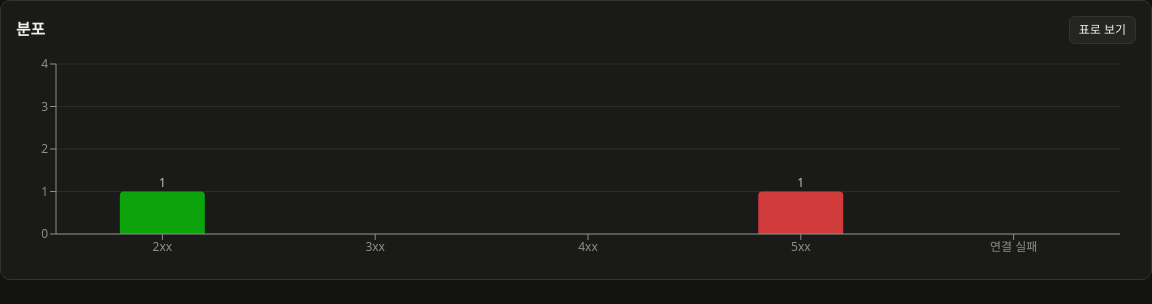
Test: StatusDistribution › 표로 보기를 누르면 같은 데이터를 표로 보여 준다
This screenshot has width=1152, height=304.
Click the button "표로 보기": (1102,30) [1069, 16, 1136, 44]
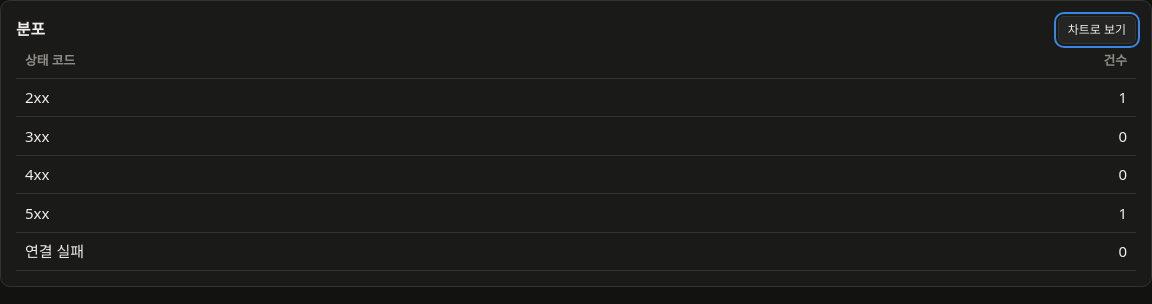
Check: the cell "5xx" is shown, box [16, 194, 744, 232]
Check: the button "차트로 보기" is pressed, box [1058, 16, 1136, 44]
